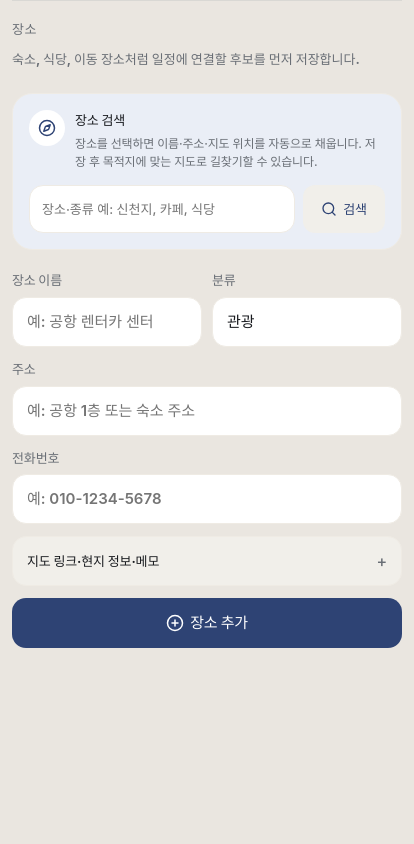
Test case: ManagePlaceCreateForm › 같은 검색어라도 이전 검색이 실패했다면 다시 시도한다
The image size is (414, 844).
Type "카페" into the field with placeholder "장소·종류 예: 신천지, 카페, 식당" at coordinates (162, 209), box [29, 185, 295, 233]
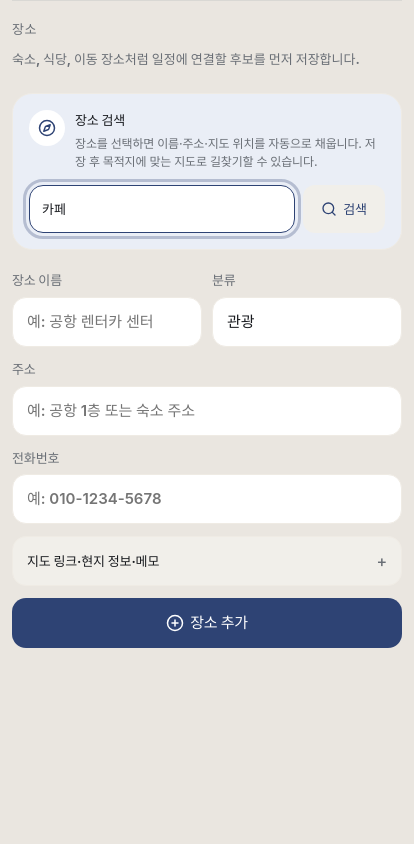
Click the button "검색" at coordinates (344, 209), box [303, 185, 385, 233]
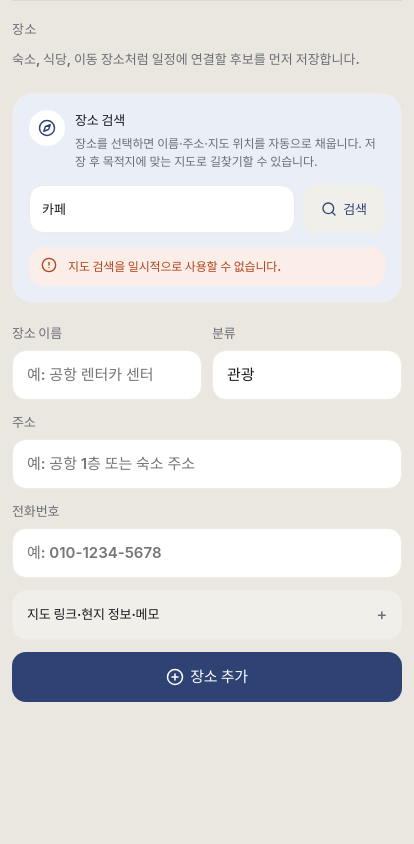
Check: the text "지도 검색을 일시적으로 사용할 수 없습니다." is shown, box [68, 259, 281, 274]
Click the button "검색" at coordinates (344, 209), box [303, 185, 385, 233]
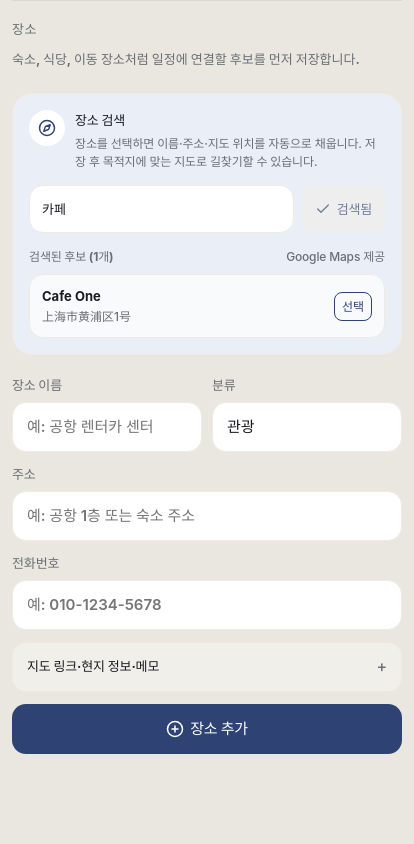
Check: the text "Cafe One" is shown, box [42, 288, 101, 304]
